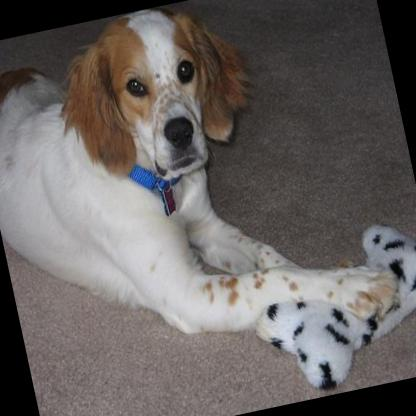Brittany_spaniel: (0, 0, 405, 391)
